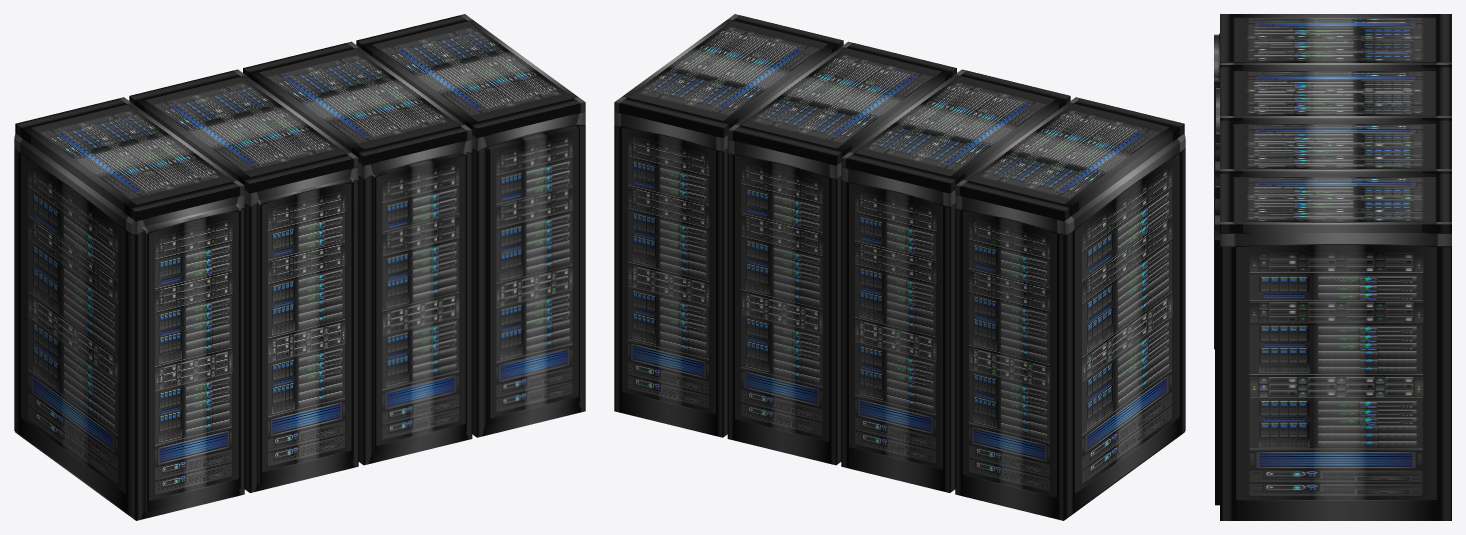
File: SERVER.fbx
3 views of the same model, side by side, from view 1: azimuth 30°, elevation 25°; view 2: azimuth 150°, elevation 25°; view 3: azimuth 270°, elevation 25° (orthographic). The views are drawn at different scales.
Visible parts, largest first — view 1: server_computer_Mesh; view 2: server_computer_Mesh; view 3: server_computer_Mesh.
Boxes of the visible parts, left/top/right/bottom form: server_computer_Mesh: left=14, top=14, right=585, bottom=520; server_computer_Mesh: left=614, top=14, right=1185, bottom=520; server_computer_Mesh: left=1214, top=14, right=1451, bottom=520.
Size of the model in its own units: 433 by 282 by 205.
